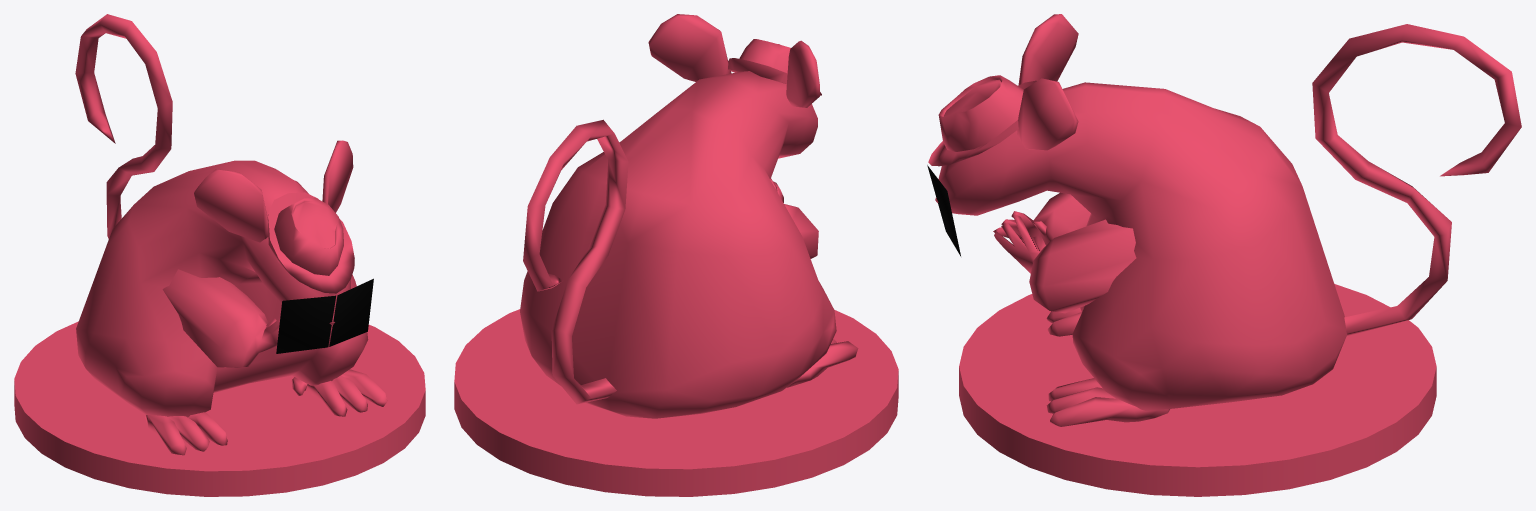
The model's file is MuisStatue.fbx.
The picture shows the model from 3 angles, left to right: view 1: azimuth 30°, elevation 25°; view 2: azimuth 150°, elevation 25°; view 3: azimuth 270°, elevation 25°; orthographic projection. The views are drawn at different scales.
Parts seen in each view (by area): view 1: MuisBody, MuisBase, Whiskers; view 2: MuisBody, MuisBase; view 3: MuisBody, MuisBase, Whiskers.
Boxes of the visible parts, x1,y1,x2,y2 form: MuisBody: [75, 14, 387, 455]; MuisBase: [14, 321, 425, 496]; Whiskers: [276, 278, 373, 353]; MuisBody: [520, 14, 858, 418]; MuisBase: [454, 309, 898, 496]; MuisBody: [928, 14, 1521, 426]; MuisBase: [959, 284, 1436, 496]; Whiskers: [927, 165, 960, 256].
Size of the model in its own units: 21.61 by 18.65 by 26.92.
